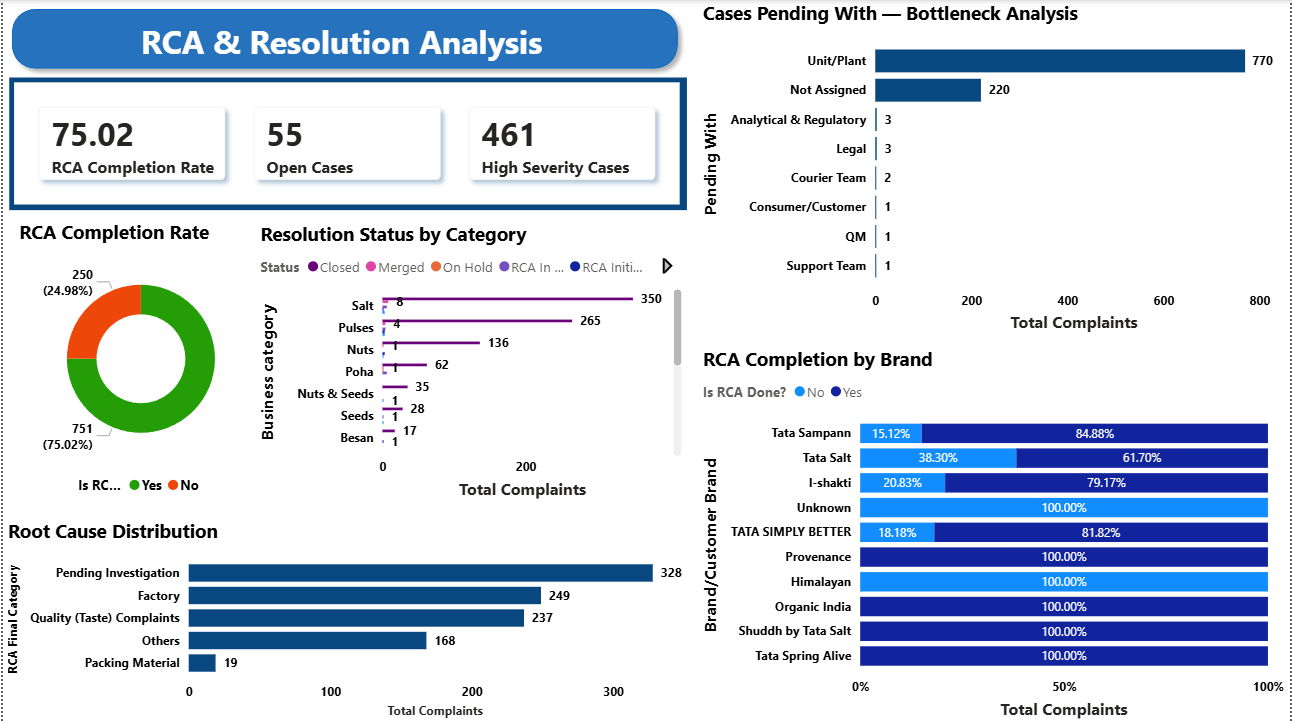

This screenshot's page, from the dashboard's own definition file:
{"tool":"powerbi","page":{"name":"RCA & Resolution Analysis","canvas":[1280,720],"ordinal":2},"visuals":[{"type":"shape","box":[0,0,680.4,77.1],"z":0},{"type":"textbox","box":[23.6,14.9,627,52.2],"z":1000},{"type":"cardVisual","fields":{"Data":["1 Measures.RCA Completion Rate","1 Measures.Open Cases","1 Measures.High Severity Cases"]},"box":[6.2,77.1,674.2,131.9],"z":2000},{"type":"donutChart","title":"RCA Completion Rate","fields":{"Category":["PowerBI-data.Is RCA Done?"],"Y":["1 Measures.Total Complaints"]},"box":[11.2,217.7,252.5,283.6],"z":3000},{"type":"clusteredBarChart","title":"Root Cause Distribution","fields":{"Category":["PowerBI-data.RCA Final Category"],"Y":["1 Measures.Total Complaints"]},"box":[0,515,691.6,205.3],"z":4000},{"type":"clusteredBarChart","title":"Cases Pending With — Bottleneck Analysis","fields":{"Y":["1 Measures.Total Complaints"],"Category":["PowerBI-data.Pending With"]},"box":[691.6,0,588.4,335.9],"z":5000},{"type":"hundredPercentStackedBarChart","title":"RCA Completion by Brand","fields":{"Y":["1 Measures.Total Complaints"],"Category":["PowerBI-data.Brand/Customer Brand"],"Series":["PowerBI-data.Is RCA Done?"]},"box":[691.6,344.6,588.4,375.7],"z":6000},{"type":"clusteredBarChart","title":"Resolution Status by Category","fields":{"Y":["1 Measures.Total Complaints"],"Category":["PowerBI-data.Business category"],"Series":["PowerBI-data.Status"]},"box":[251.3,220.2,429.2,281.1],"z":7000}]}

Visuals, with their boxes in screenshot pixels (x1, y1, x2, y2), scaled from the page's 1280x720 canvas onto the 1292x721 screenshot:
shape: [0, 0, 687, 77]
textbox: [24, 15, 657, 67]
cardVisual - 1 Measures.RCA Completion Rate x 1 Measures.Open Cases: [6, 77, 687, 209]
"RCA Completion Rate" donutChart: [11, 218, 266, 502]
"Root Cause Distribution" clusteredBarChart: [0, 516, 698, 720]
"Cases Pending With — Bottleneck Analysis" clusteredBarChart: [698, 0, 1291, 336]
"RCA Completion by Brand" hundredPercentStackedBarChart: [698, 345, 1291, 720]
"Resolution Status by Category" clusteredBarChart: [254, 221, 687, 502]
